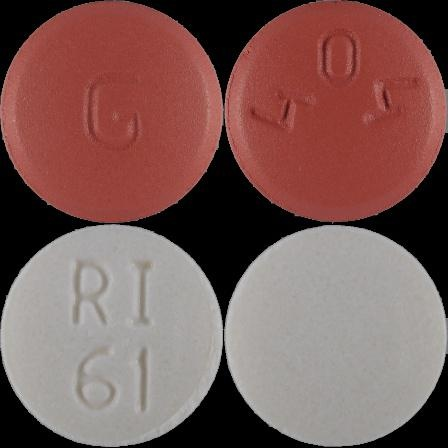54868-6393: (0, 0, 224, 224)
